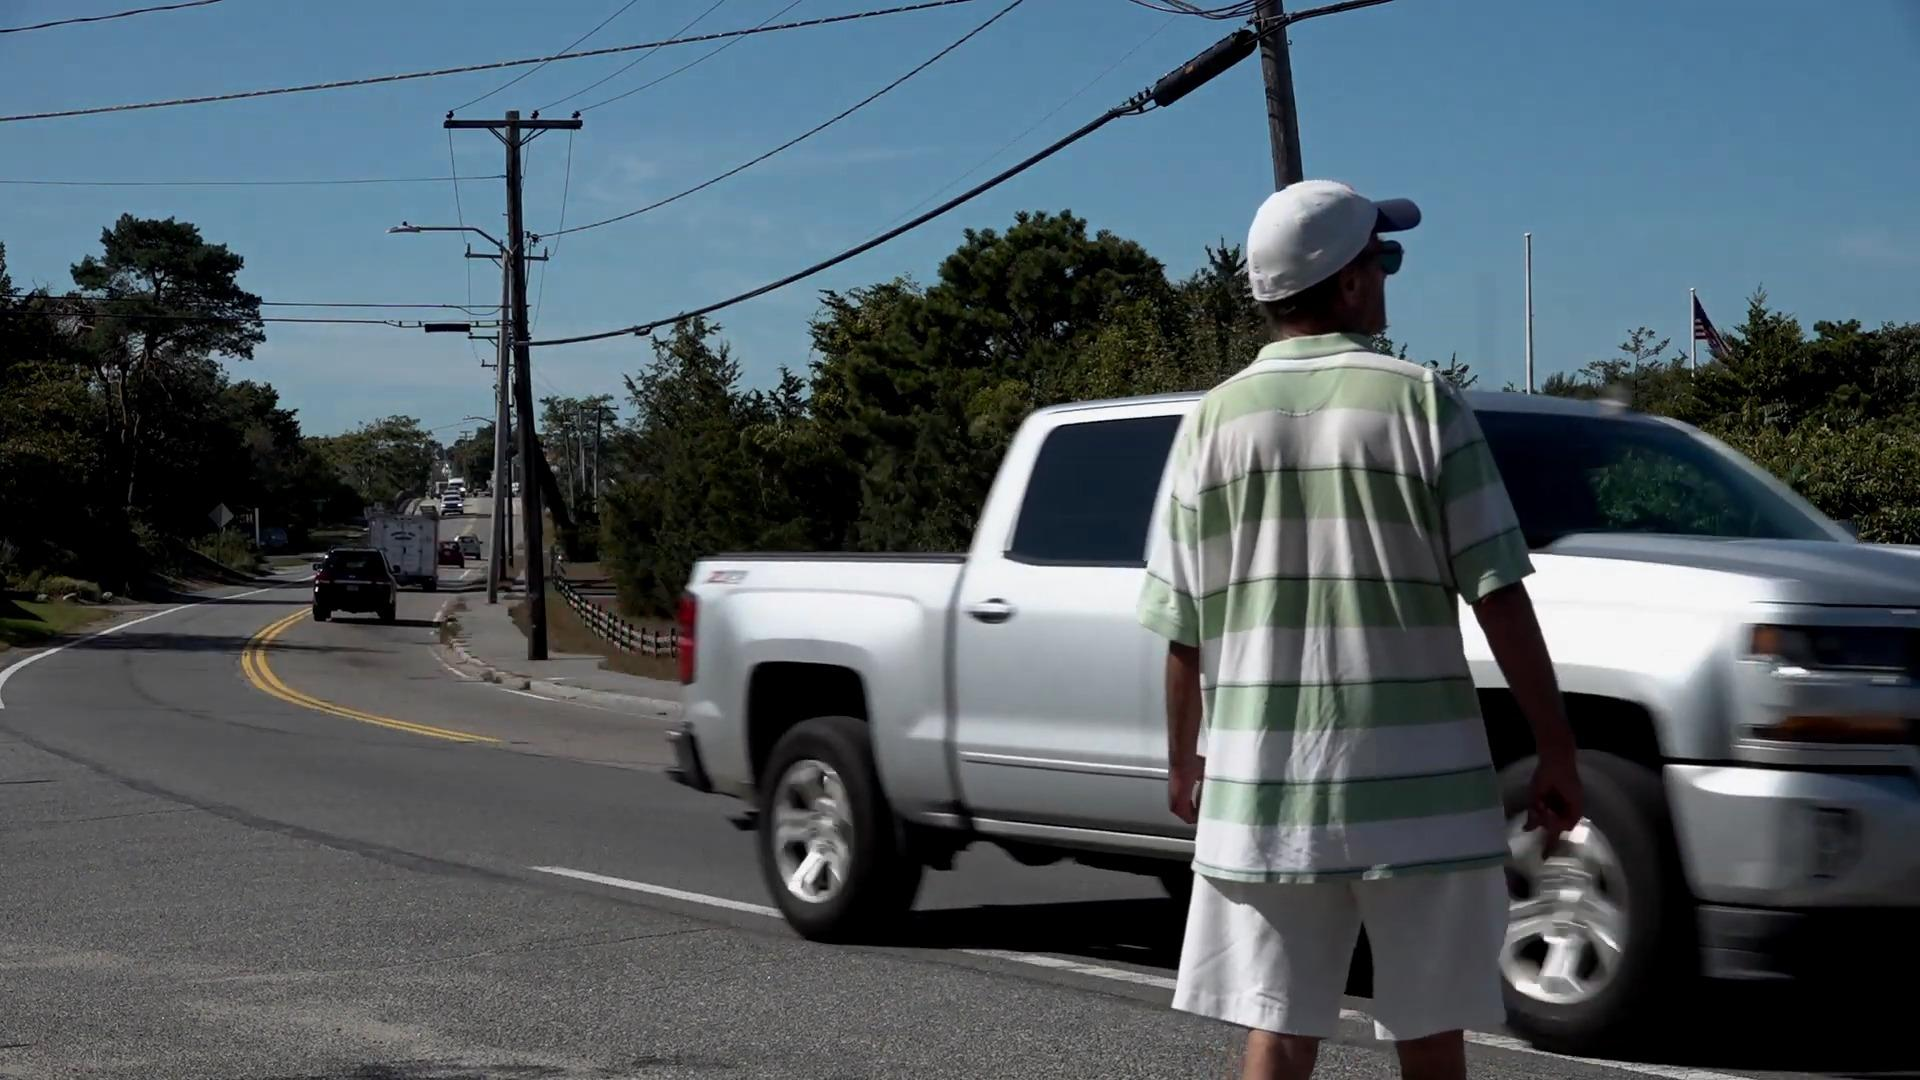pickup: (676, 388, 1919, 1050)
suv: (313, 543, 397, 620)
